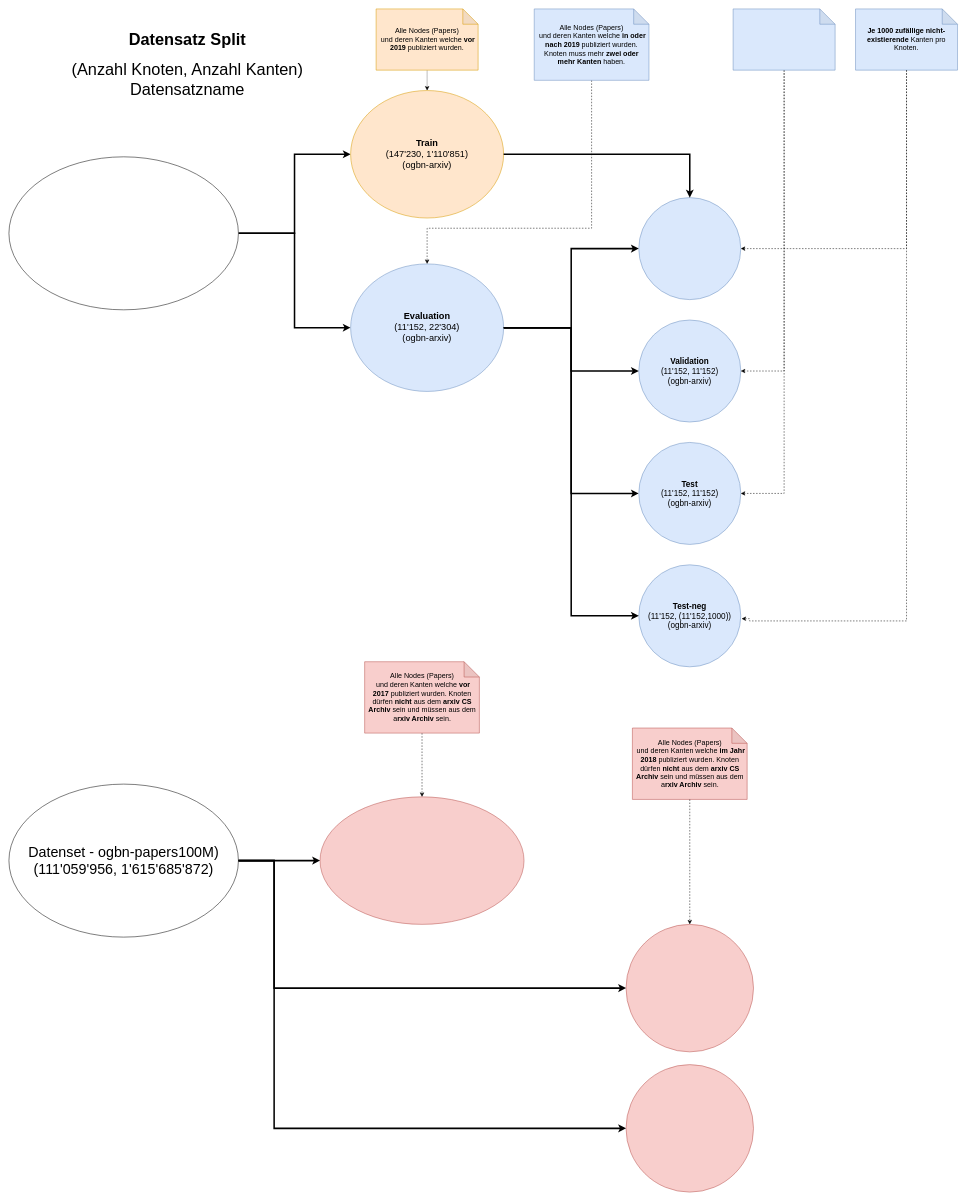
Image size: 966x1201. Some labels were removed from this diagram. Each missing label, with the centre of its shape:
"Datenset - ogbn-arxiv (169'343, 1'166'243)" goes at (x=123, y=233).
"Je eine zufällige Kante pro Knoten." goes at (x=784, y=39).
"Pretrain ( 1'079'908, 9'744'382 ) ( ogbn-papers100M )" goes at (x=422, y=860).
"Validation ( 76'664, 76'664 ) ( ogbn-papers100M )" goes at (x=690, y=988).
"Validation -neg (11'152, (11'152,1000)) (ogbn-arxiv)" goes at (x=689, y=248).
"Validation-neg ( 76'664, (76'664,1000) ) ( ogbn-papers100M )" goes at (x=690, y=1128).
